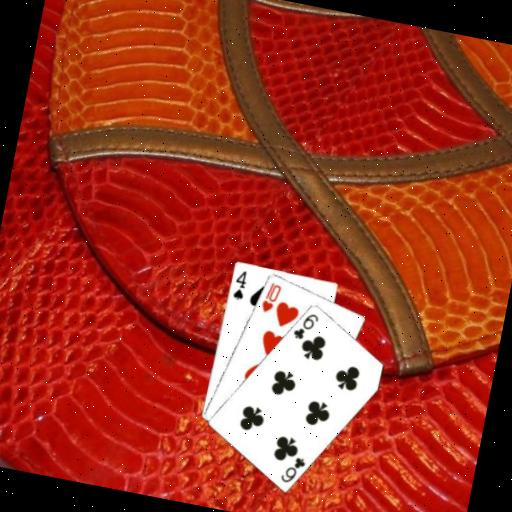10H: (258, 278, 284, 316)
4S: (229, 266, 250, 302)
6C: (289, 307, 321, 343), (277, 451, 309, 487)
